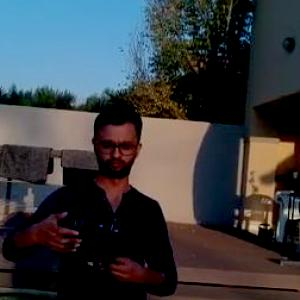follow: (0, 98, 185, 299)
